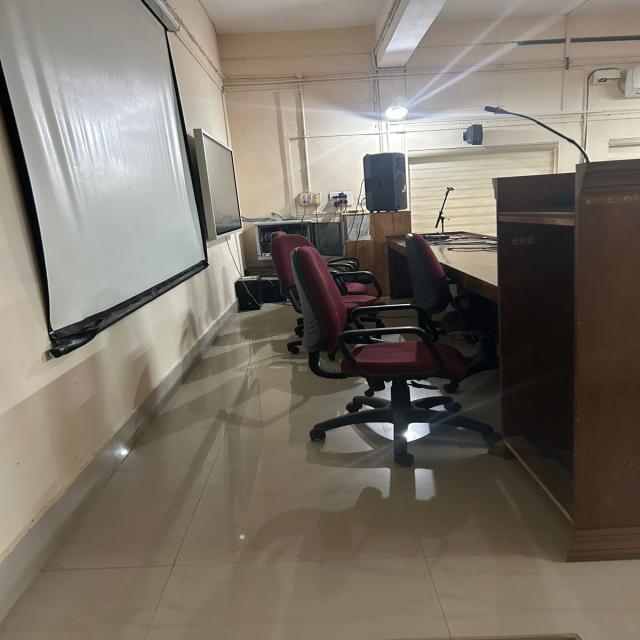chair ahead at: (273, 237, 491, 463)
